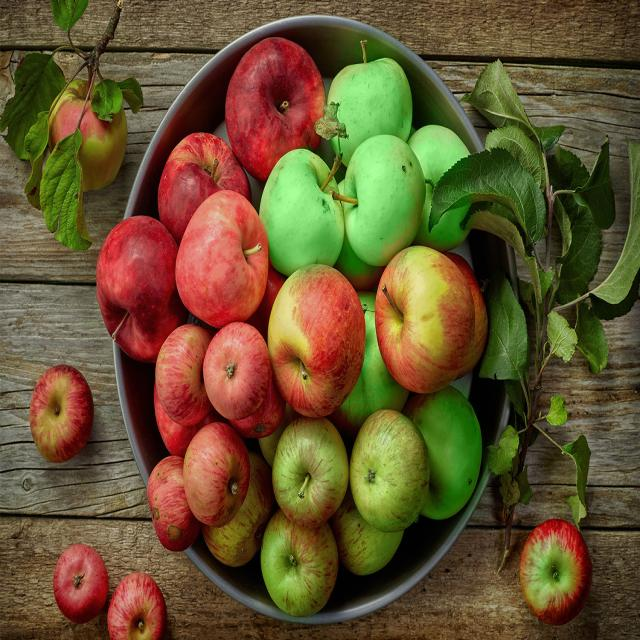Green Apple: (335, 134, 427, 265), (351, 409, 431, 529), (272, 416, 349, 523)
Red Apple: (373, 245, 491, 395), (224, 36, 342, 182), (267, 264, 367, 418), (97, 214, 189, 366), (45, 543, 168, 640), (26, 363, 96, 465)
